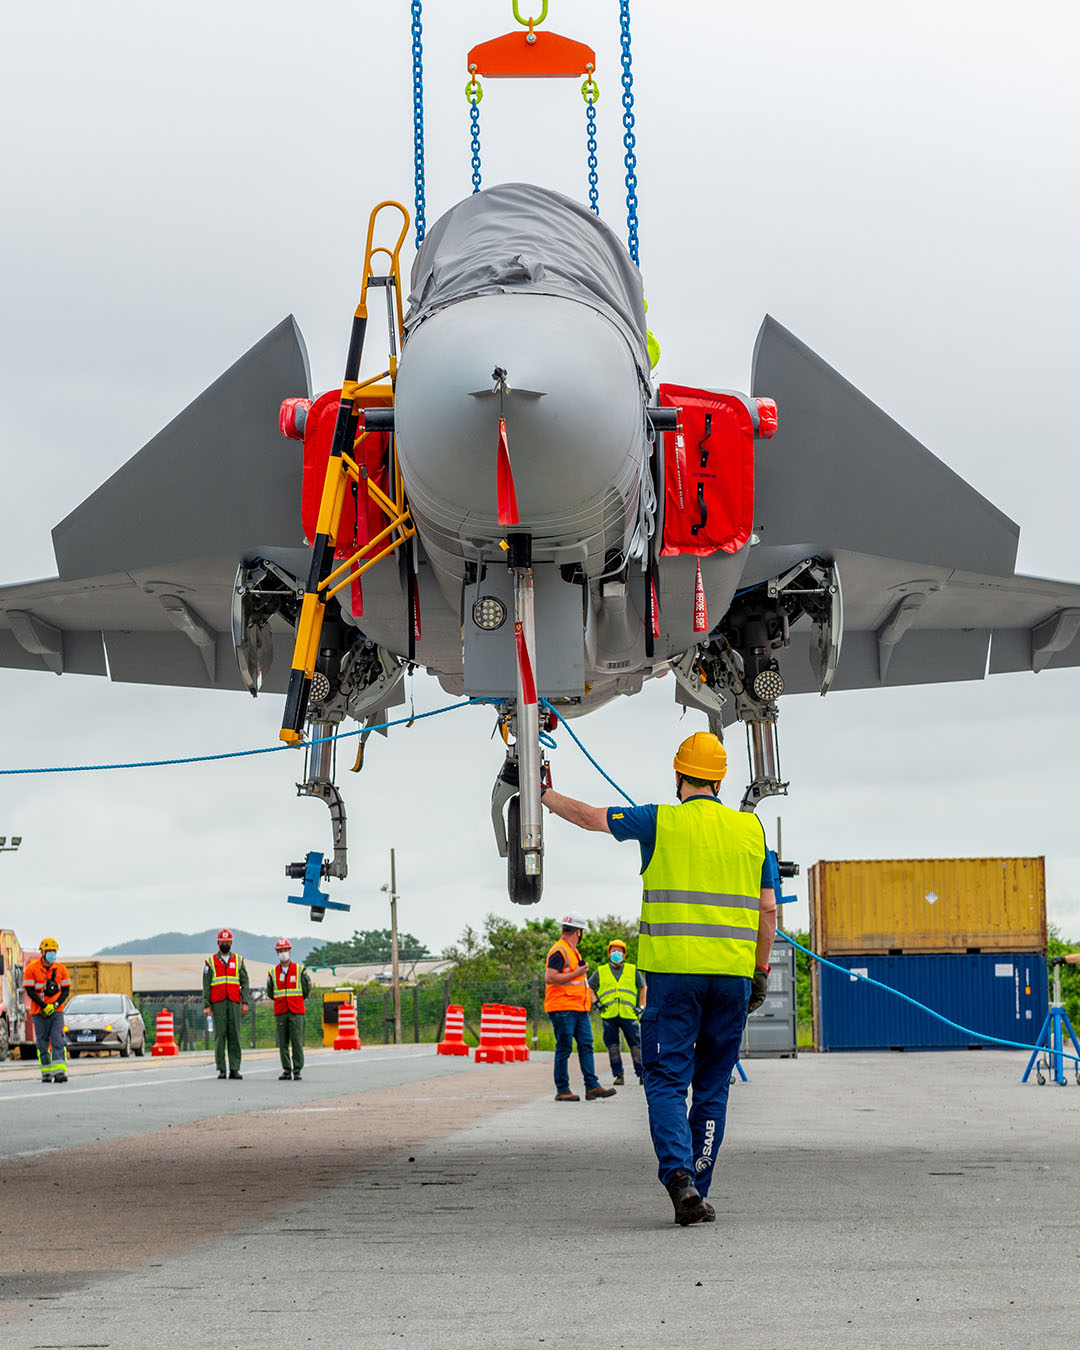JAS39: (1, 182, 1080, 906)
